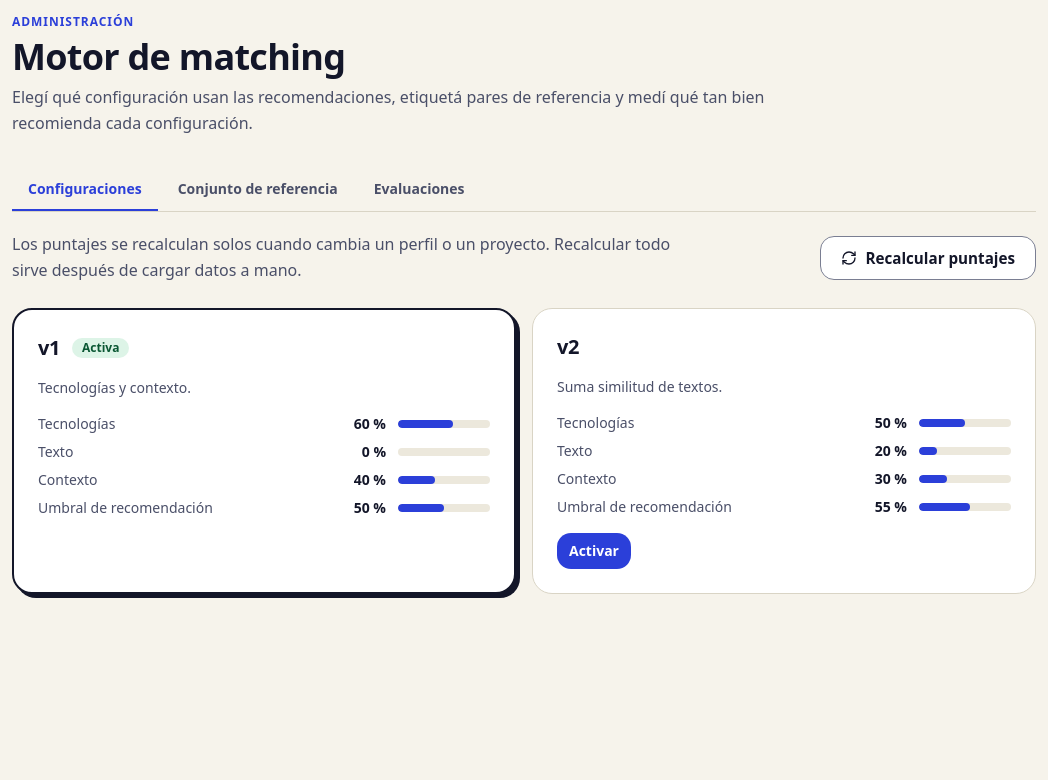
MotorAdminPage › Configuraciones › si el recálculo falla, avisa el motivo
Expected: the heading "v1" is shown, 38,334 -> 60,362
Click the button "Recalcular puntajes" at (928, 258), box 820,236 -> 1036,280
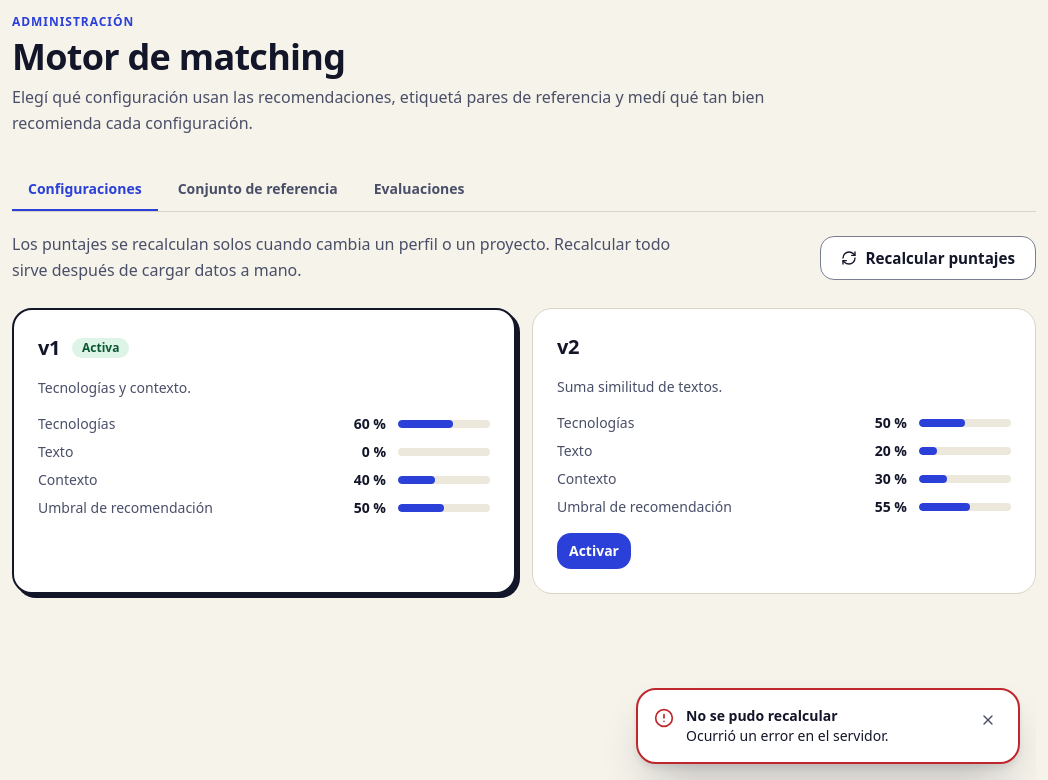
Expected: the text "Ocurrió un error en el servidor." is shown, 686,726 -> 888,745
Expected: the text "No se pudo recalcular" is shown, 686,706 -> 838,725
